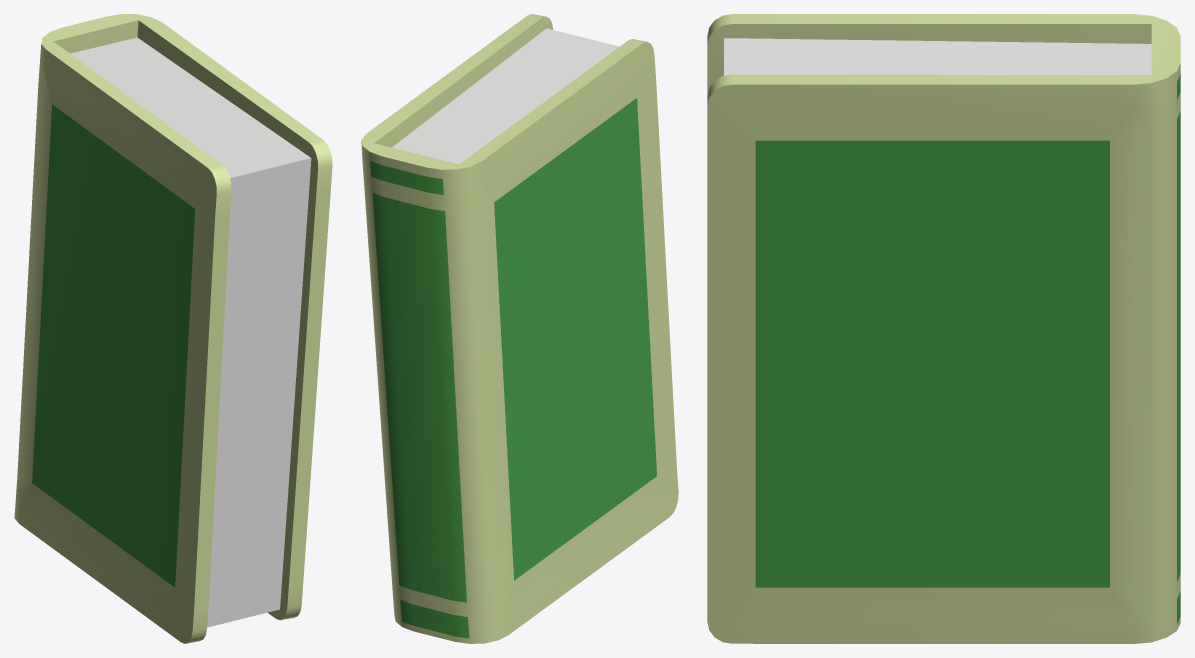
Rendered from book_19.fbx.
3 views of the same model, side by side, from view 1: azimuth 30°, elevation 25°; view 2: azimuth 150°, elevation 25°; view 3: azimuth 270°, elevation 25° (orthographic). The views are drawn at different scales.
Parts seen in each view (by area): view 1: book_19; view 2: book_19; view 3: book_19.
Boxes of the visible parts, left/top/right/bottom form: book_19: left=14, top=14, right=332, bottom=643; book_19: left=361, top=14, right=678, bottom=643; book_19: left=707, top=14, right=1180, bottom=643.
Bounding box in the file's own units: 0.1101 × 0.3466 × 0.2557.
